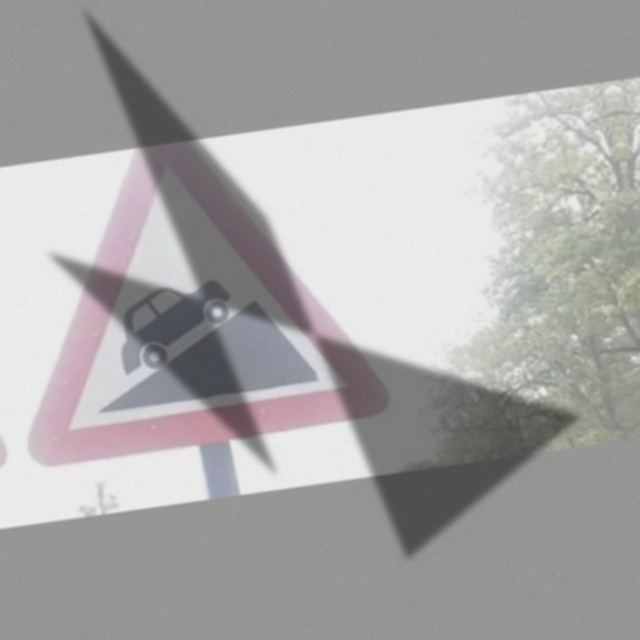Steep_Ascent: (30, 160, 368, 462)
